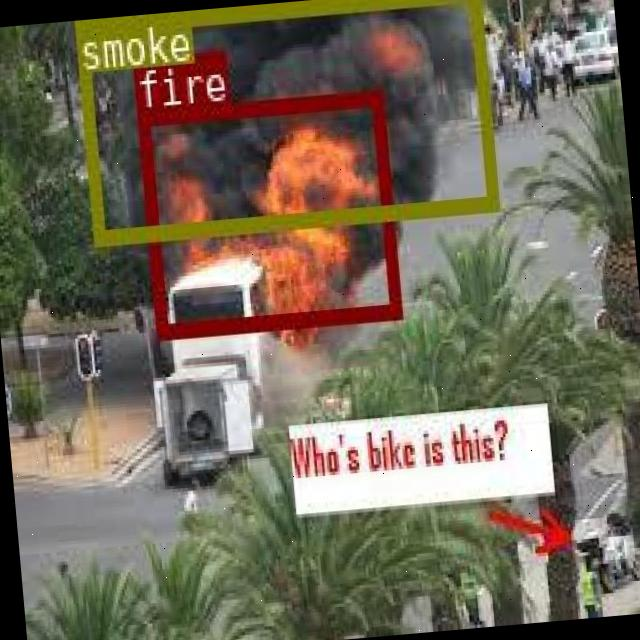fire: (135, 87, 399, 335)
smoke: (72, 0, 495, 240)
